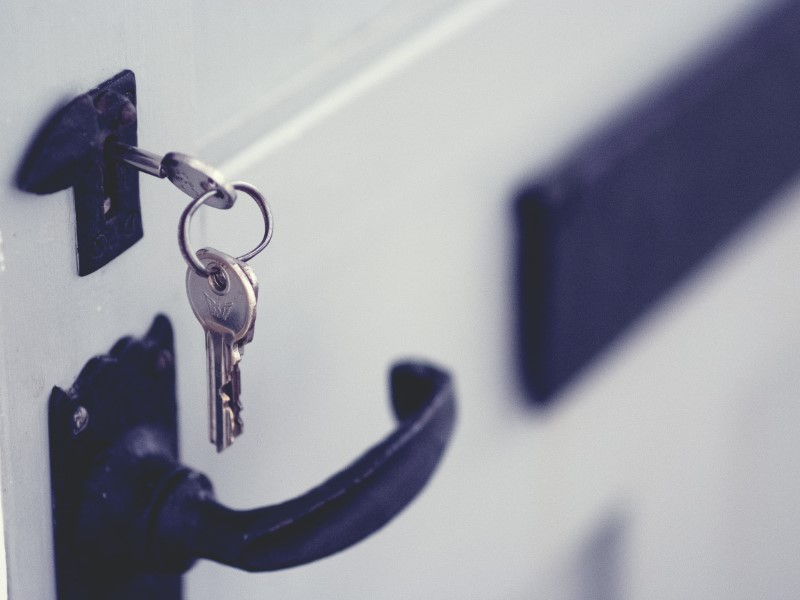key: (173, 236, 264, 457)
